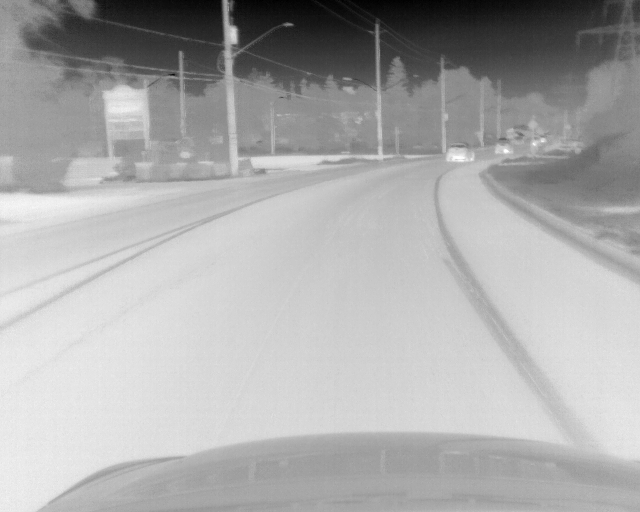car: (446, 141, 474, 163), (495, 138, 513, 155)
